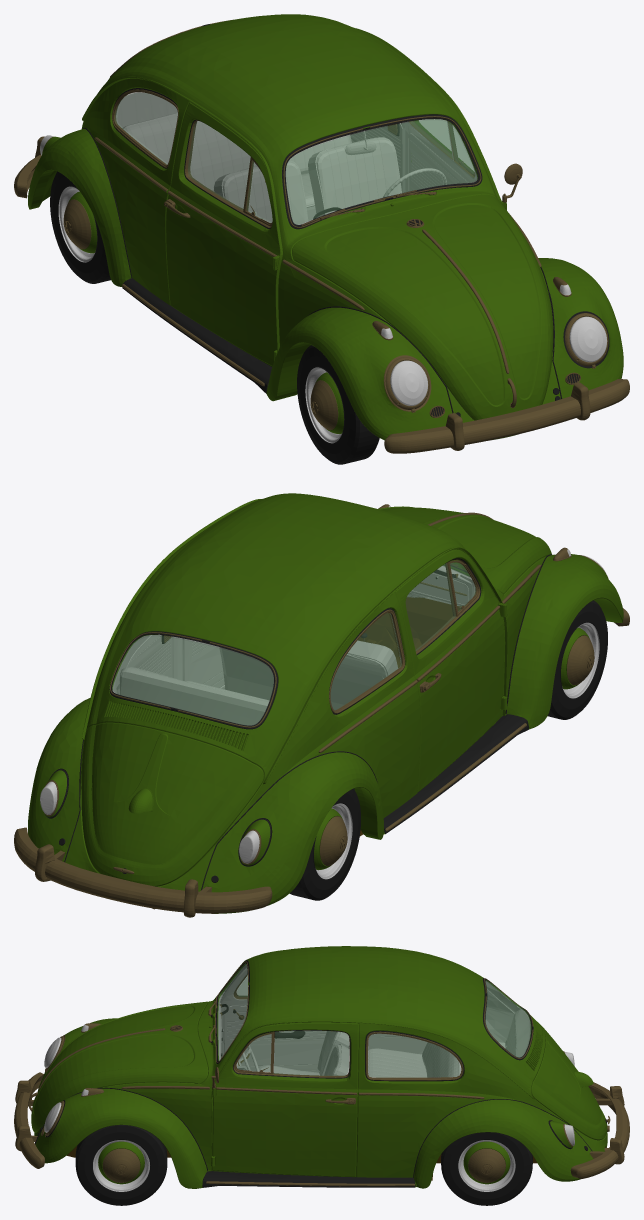
The model's file is car.glb.
3 views of the same model, one above another, from view 1: azimuth 30°, elevation 25°; view 2: azimuth 150°, elevation 25°; view 3: azimuth 270°, elevation 25° (orthographic). The views are drawn at different scales.
Visible parts, largest first — view 1: Body00, Glass01, Interior01, Bumper02, Wheel03, Interior02, Wheel04, Glass08, Glass04, Light01, Light02, Glass07 (+2 smaller); view 2: Body00, Glass02, Bumper01, Interior01, Wheel03, Interior02, Wheel04, Interior03, Glass04, Glass08, Glass07; view 3: Body00, Wheel02, Wheel01, Glass03, Glass05, Interior02, Bumper01, Glass02, Glass01, Bumper02, Interior01, Glass06.
Part boxes in pixels (<box>): Body00: <box>28,14,623,440</box>; Glass01: <box>286,120,477,224</box>; Interior01: <box>214,137,401,224</box>; Bumper02: <box>384,379,629,453</box>; Wheel03: <box>297,345,379,464</box>; Interior02: <box>122,113,351,221</box>; Wheel04: <box>50,171,110,283</box>; Glass08: <box>188,121,250,210</box>; Glass04: <box>115,93,177,164</box>; Light01: <box>569,316,607,362</box>; Light02: <box>390,360,427,405</box>; Glass07: <box>246,161,272,222</box>; Body00: <box>28,493,623,913</box>; Glass02: <box>112,635,273,725</box>; Bumper01: <box>14,827,272,917</box>; Interior01: <box>219,633,397,710</box>; Wheel03: <box>547,600,607,719</box>; Interior02: <box>119,667,269,725</box>; Wheel04: <box>290,788,360,900</box>; Interior03: <box>358,566,475,667</box>; Glass04: <box>331,613,401,709</box>; Glass08: <box>406,563,455,650</box>; Glass07: <box>450,563,475,611</box>; Body00: <box>28,946,610,1188</box>; Wheel02: <box>75,1125,167,1205</box>; Wheel01: <box>441,1132,532,1205</box>; Glass03: <box>368,1034,460,1077</box>; Glass05: <box>274,1031,348,1075</box>; Interior02: <box>368,1042,461,1077</box>; Bumper01: <box>570,1082,629,1178</box>; Glass02: <box>486,980,530,1057</box>; Glass01: <box>217,964,247,1060</box>; Bumper02: <box>14,1072,44,1168</box>; Interior01: <box>258,1031,349,1075</box>; Glass06: <box>237,1034,271,1071</box>.
Bounding box in the file's own units: 1.58 × 1.4 × 4.03.
